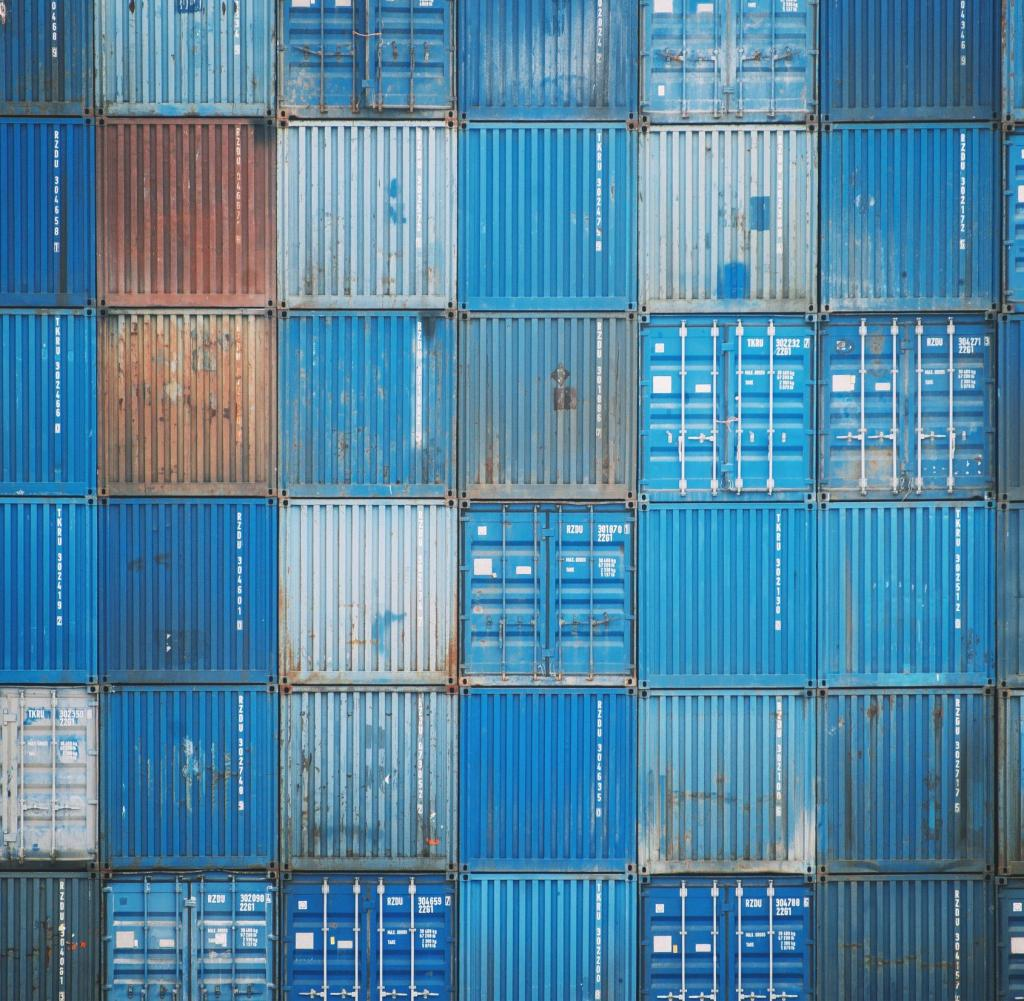container_door: (819, 313, 995, 501), (640, 317, 816, 505), (461, 499, 637, 687), (284, 1, 457, 124), (282, 878, 455, 1001), (642, 878, 814, 1001), (104, 878, 277, 1000), (643, 1, 816, 122), (1, 684, 95, 869)
container_no_door: (99, 114, 282, 309), (99, 304, 282, 498), (98, 495, 281, 689), (99, 684, 282, 878), (640, 128, 818, 319), (819, 504, 997, 695), (817, 691, 995, 881), (823, 125, 1000, 315), (463, 125, 633, 309), (464, 315, 634, 499), (642, 506, 812, 690), (285, 499, 455, 682), (286, 686, 455, 870), (282, 311, 451, 495), (283, 120, 452, 304), (642, 691, 811, 875), (461, 689, 630, 872), (815, 877, 997, 1001), (463, 877, 645, 1001), (97, 1, 279, 123), (459, 1, 641, 123), (821, 1, 1003, 123), (1, 496, 99, 681), (1, 120, 99, 305), (1, 312, 99, 490), (1, 877, 99, 1001), (1, 1, 98, 116)
